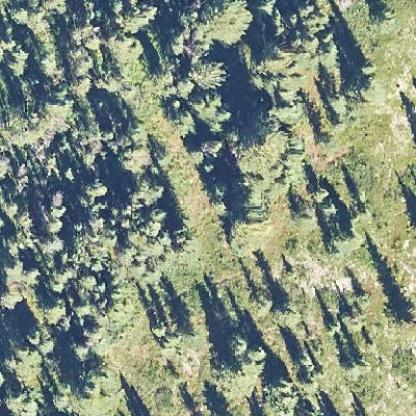tree-top: (191, 90, 230, 130), (187, 56, 228, 90), (270, 94, 304, 126), (130, 176, 162, 205), (222, 326, 250, 358), (42, 188, 70, 218), (333, 228, 365, 251), (390, 296, 415, 324), (79, 176, 113, 196), (198, 136, 223, 159), (70, 72, 92, 98), (40, 230, 64, 252), (7, 52, 28, 73), (358, 56, 378, 76), (72, 337, 90, 358), (23, 327, 43, 344)
